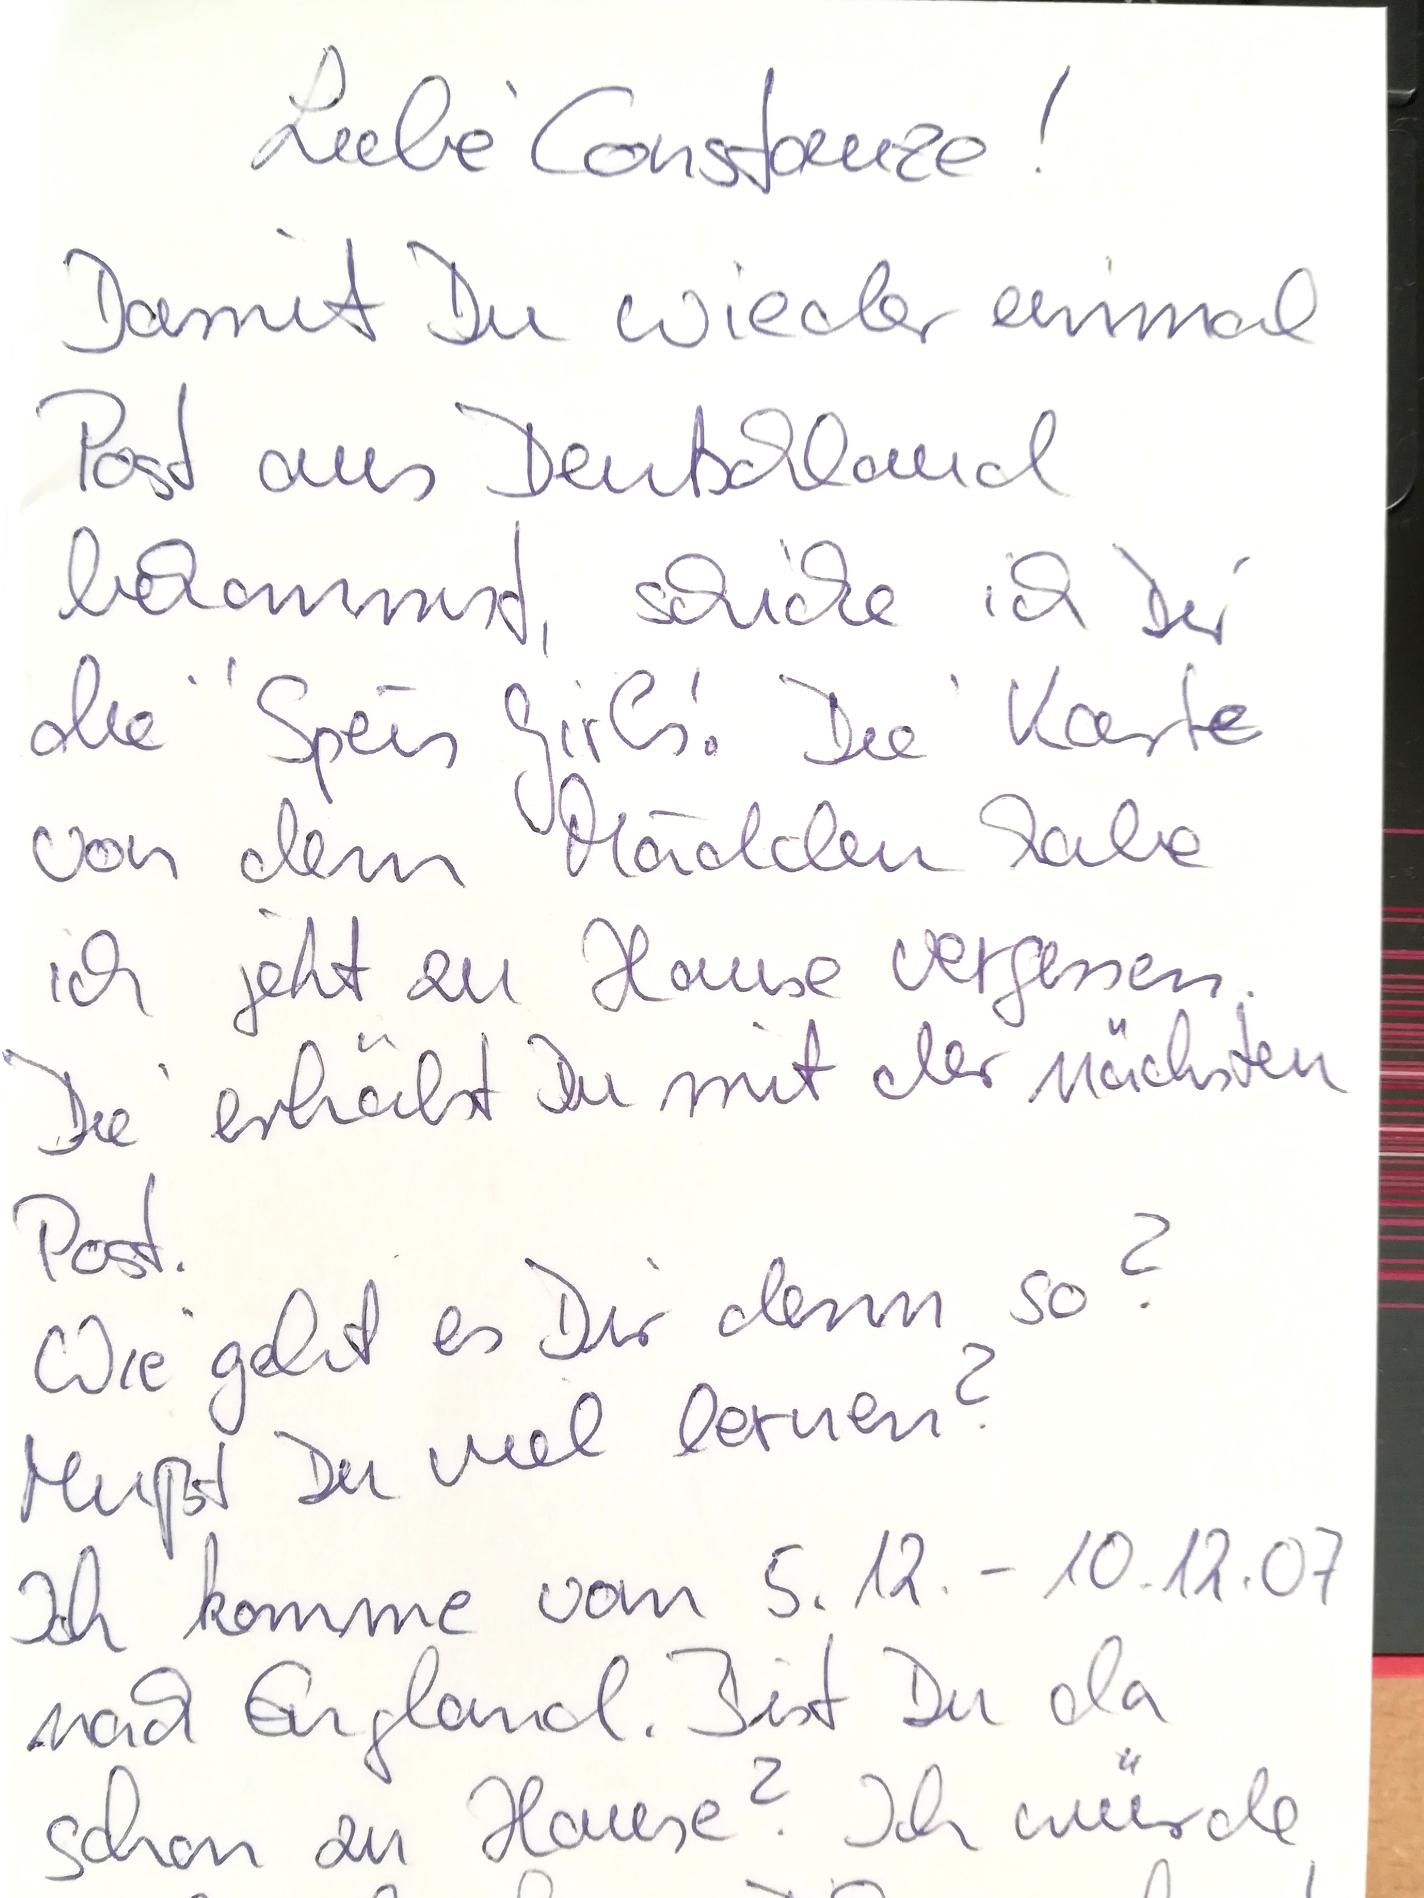text: (27, 1200, 1176, 1445), (24, 652, 1267, 836), (16, 1334, 1002, 1560), (1, 1007, 1354, 1168), (9, 1515, 1354, 1662), (52, 215, 1327, 368), (10, 1627, 1177, 1790), (34, 1748, 1303, 1894), (49, 513, 1264, 660), (37, 902, 1230, 1041), (19, 766, 1221, 894), (28, 374, 1078, 520), (238, 40, 1084, 197), (31, 1852, 1325, 1898), (0, 1167, 194, 1292)
